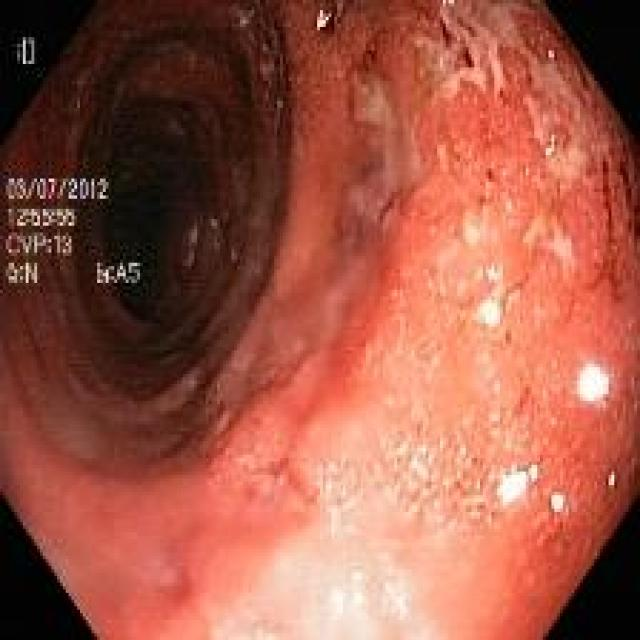ulcerative-colitis-grade-3: (5, 3, 638, 639)
